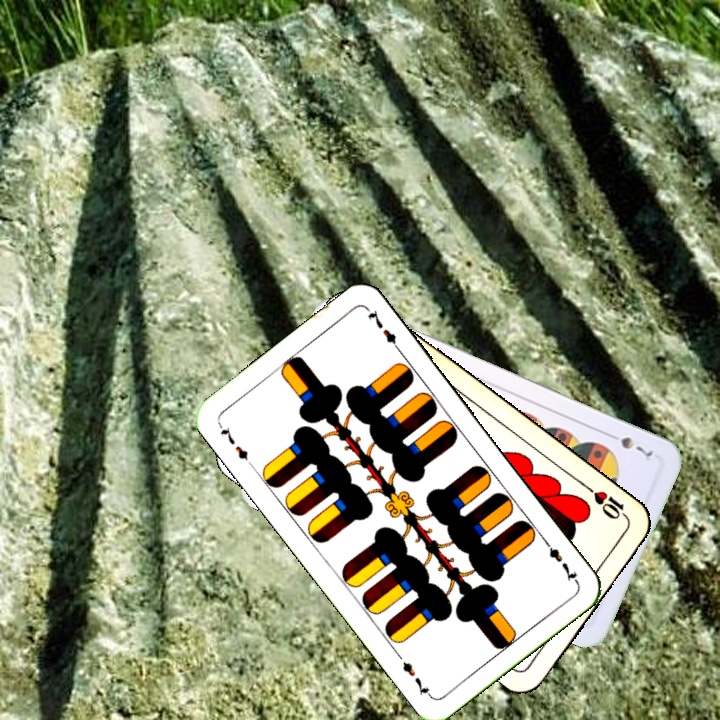E7: (539, 535, 581, 585), (214, 419, 251, 463)
H10: (582, 481, 632, 523)
S7: (602, 428, 659, 464)
